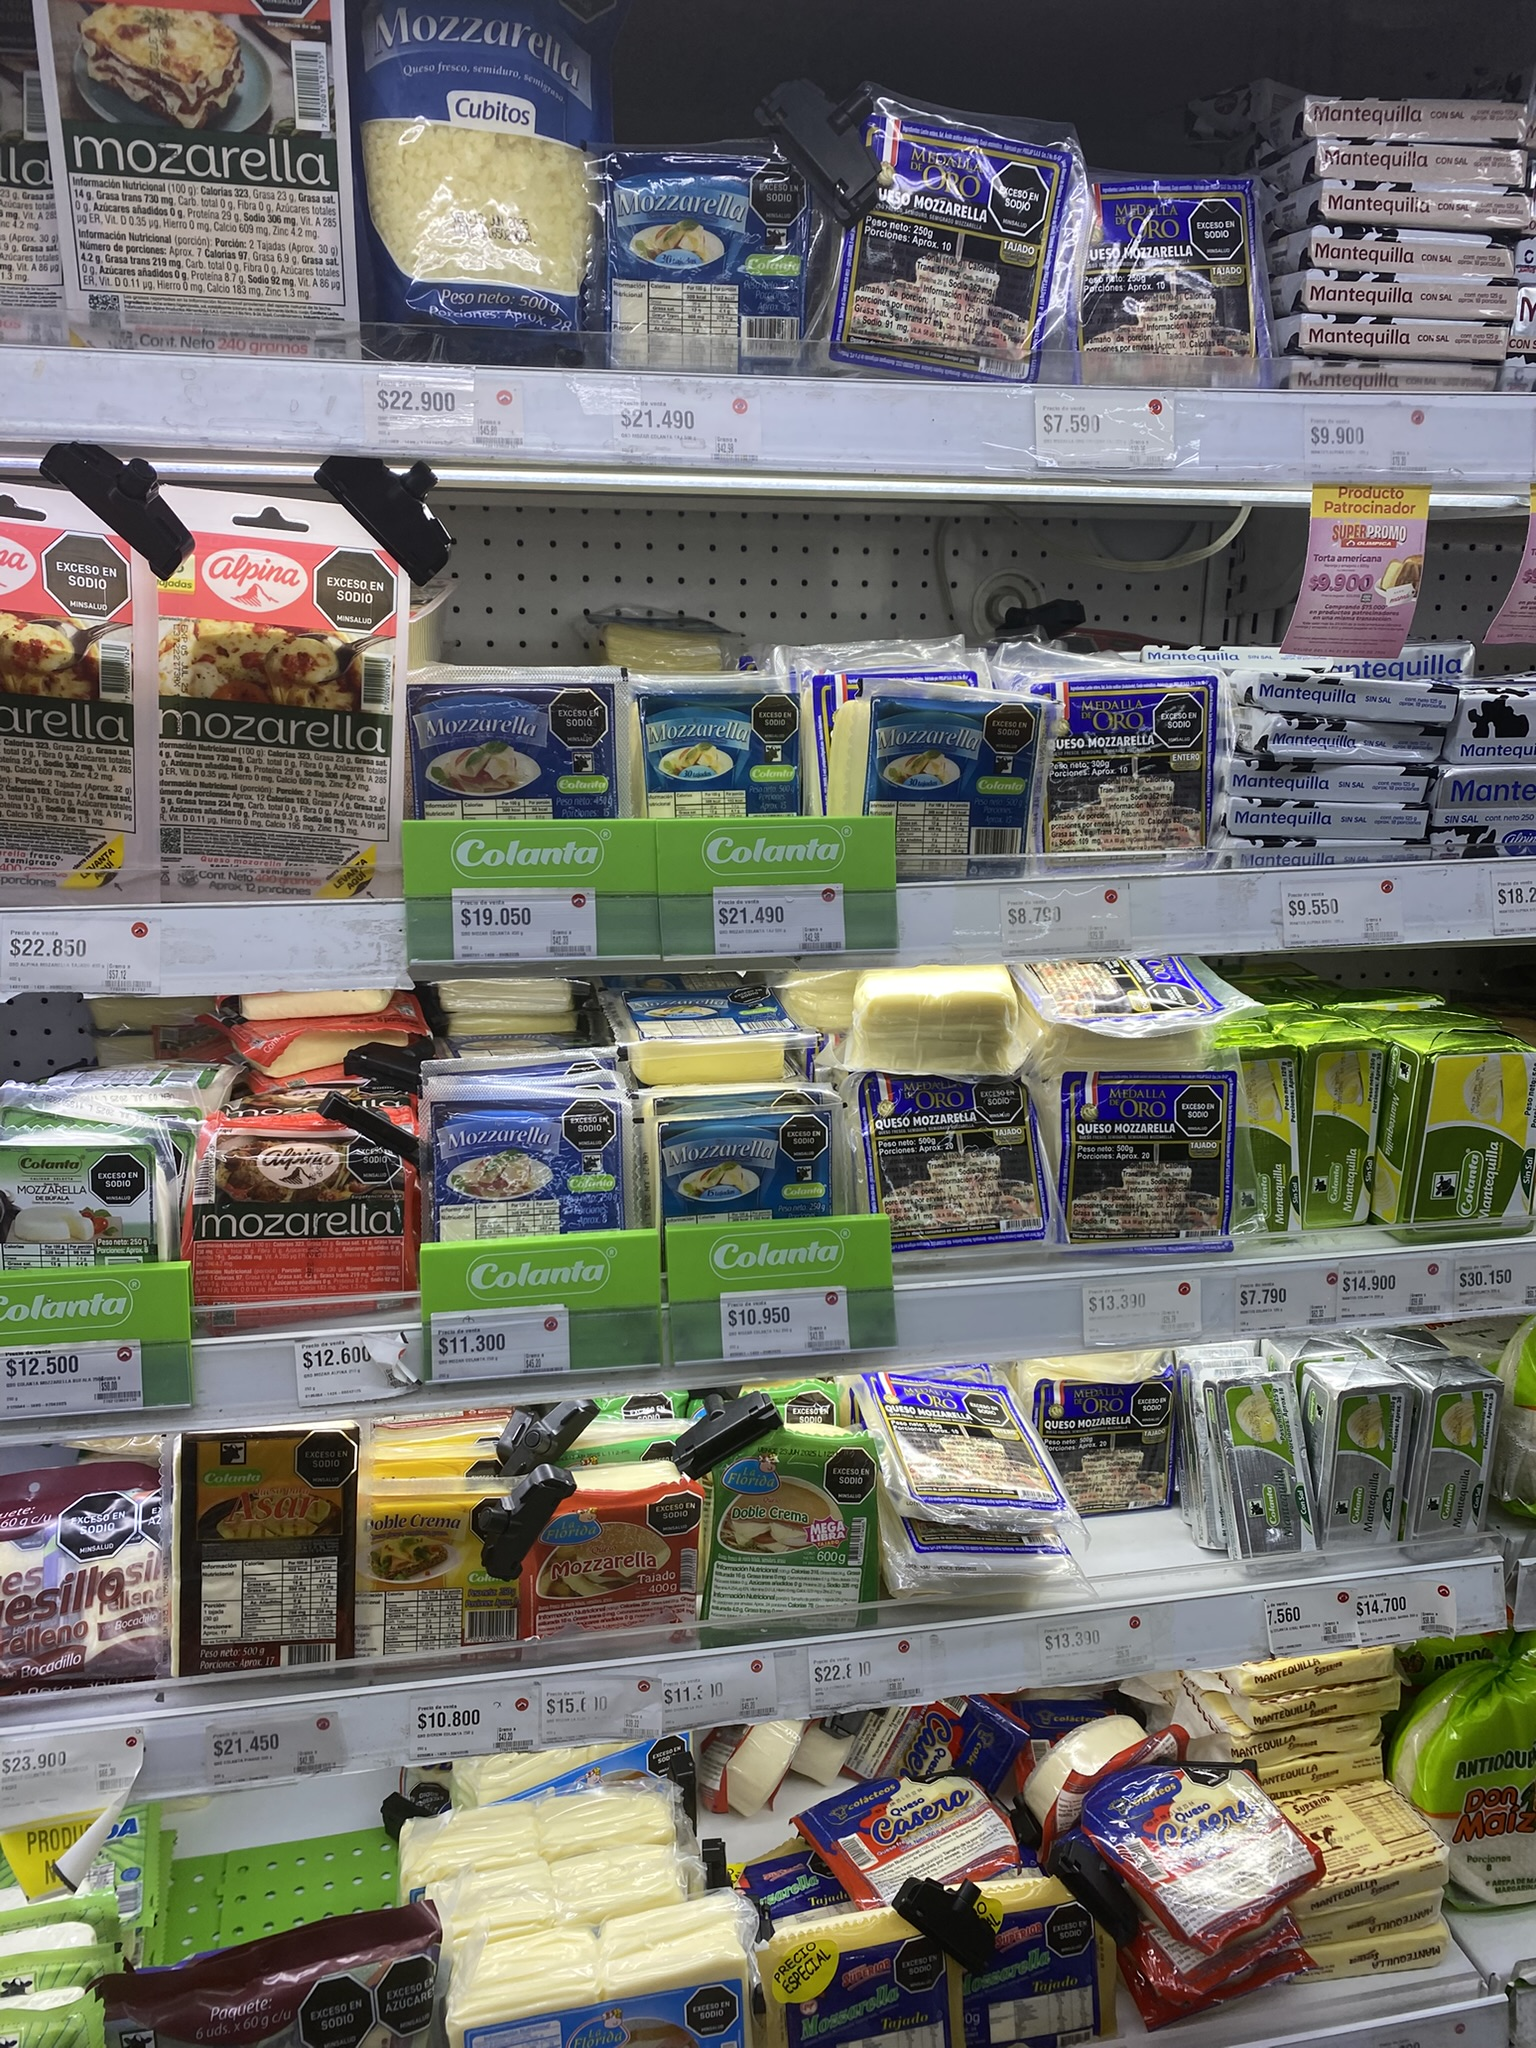Queso Mozzarella: (599, 144, 805, 374), (411, 668, 626, 832), (426, 1100, 632, 1232), (644, 681, 808, 821), (652, 1097, 841, 1216), (628, 984, 779, 1072)
